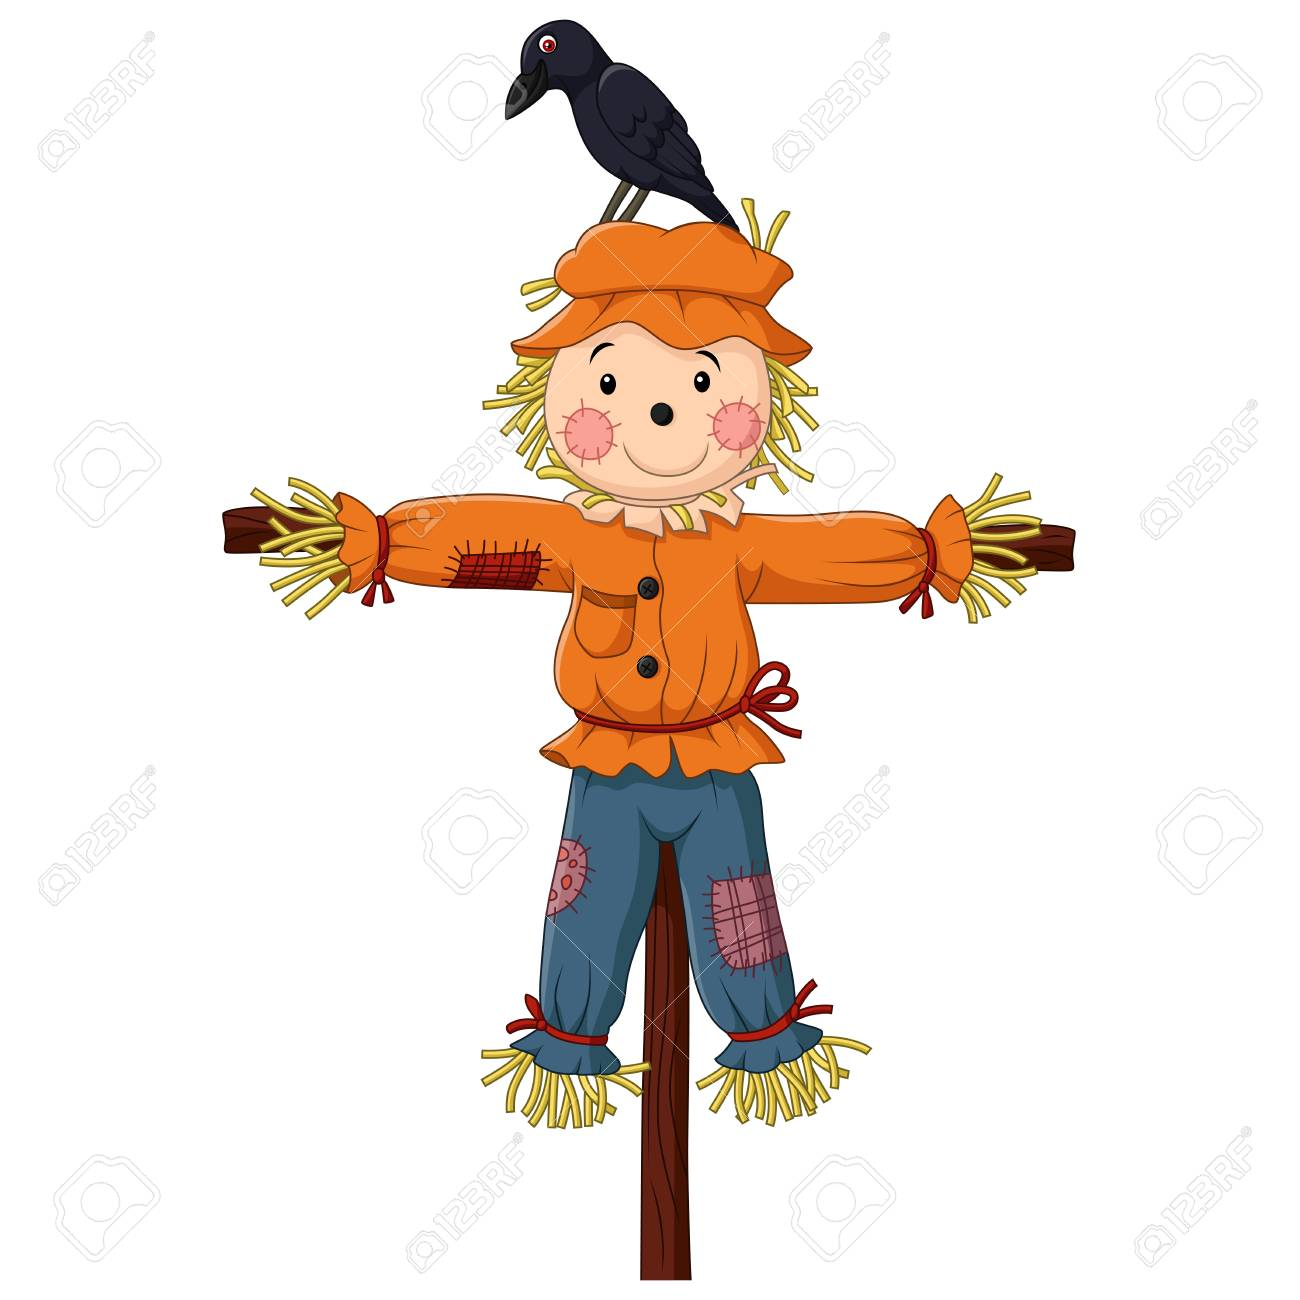person-like: (206, 210, 1054, 1149)
